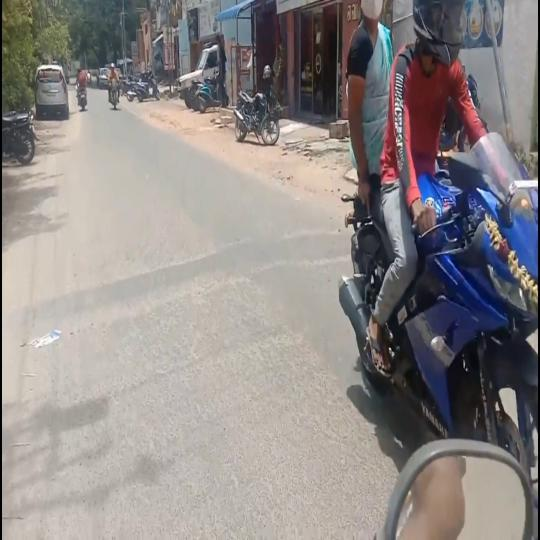Speed Bump: (3, 229, 336, 352)
